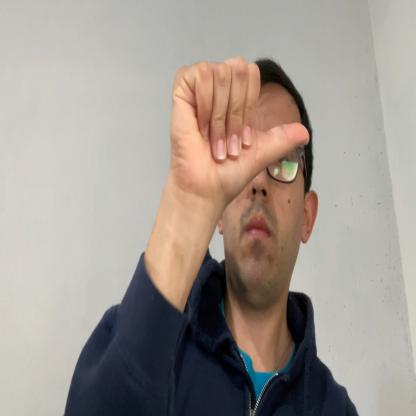A: (170, 55, 311, 207)
